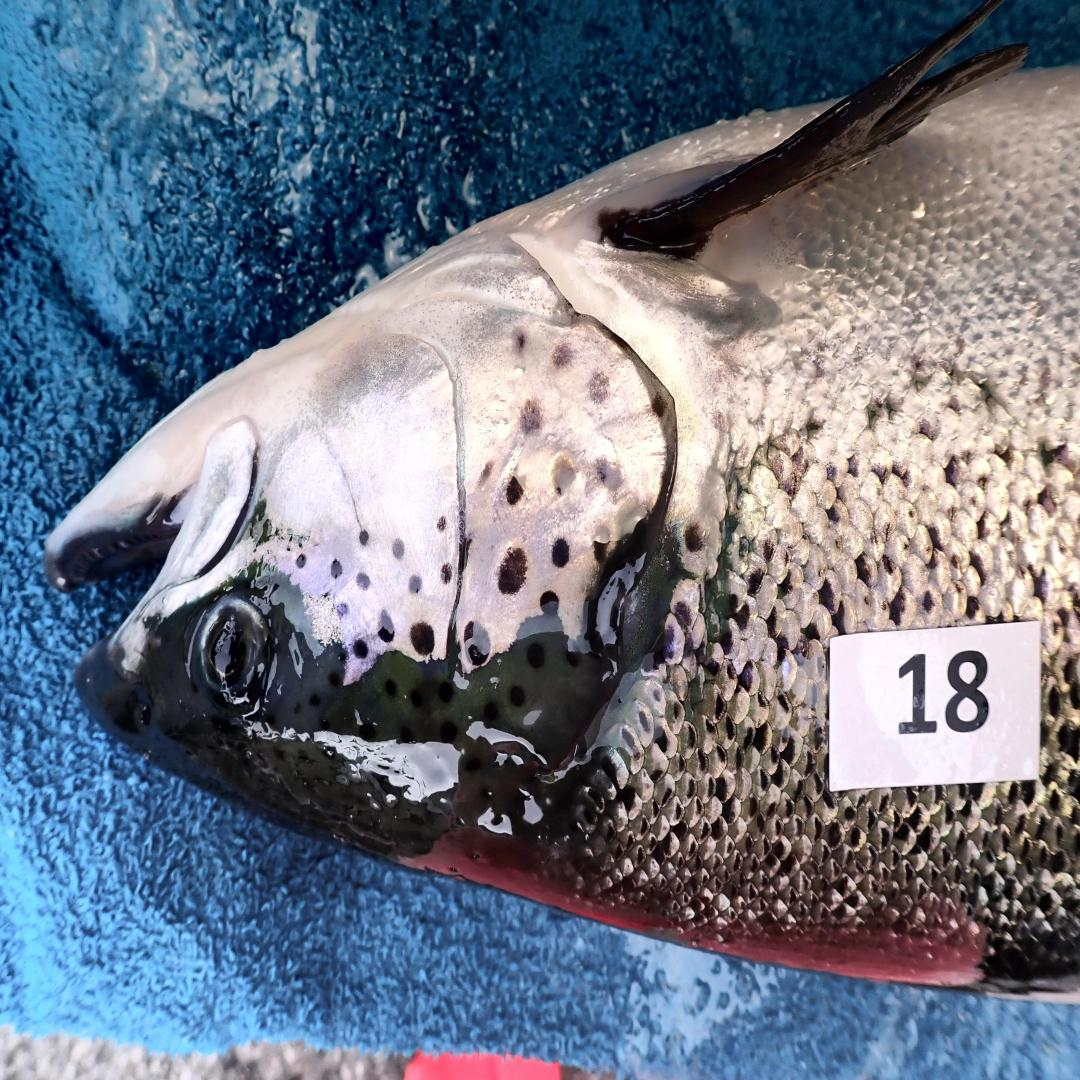spot: (498, 548, 527, 593), (464, 621, 491, 666), (593, 526, 620, 565), (378, 608, 403, 650), (553, 456, 576, 495), (409, 622, 435, 655), (597, 458, 622, 489), (589, 371, 610, 405), (521, 399, 542, 433), (551, 340, 574, 368), (504, 475, 523, 506), (553, 537, 570, 568), (460, 537, 475, 568), (479, 461, 494, 487), (540, 591, 559, 610), (352, 638, 369, 658), (652, 395, 667, 417), (329, 560, 344, 579), (392, 540, 405, 560), (356, 574, 371, 591), (335, 602, 350, 619), (409, 574, 422, 593), (441, 562, 451, 582), (515, 332, 526, 349), (359, 529, 369, 546), (295, 554, 306, 568), (437, 518, 445, 532)
